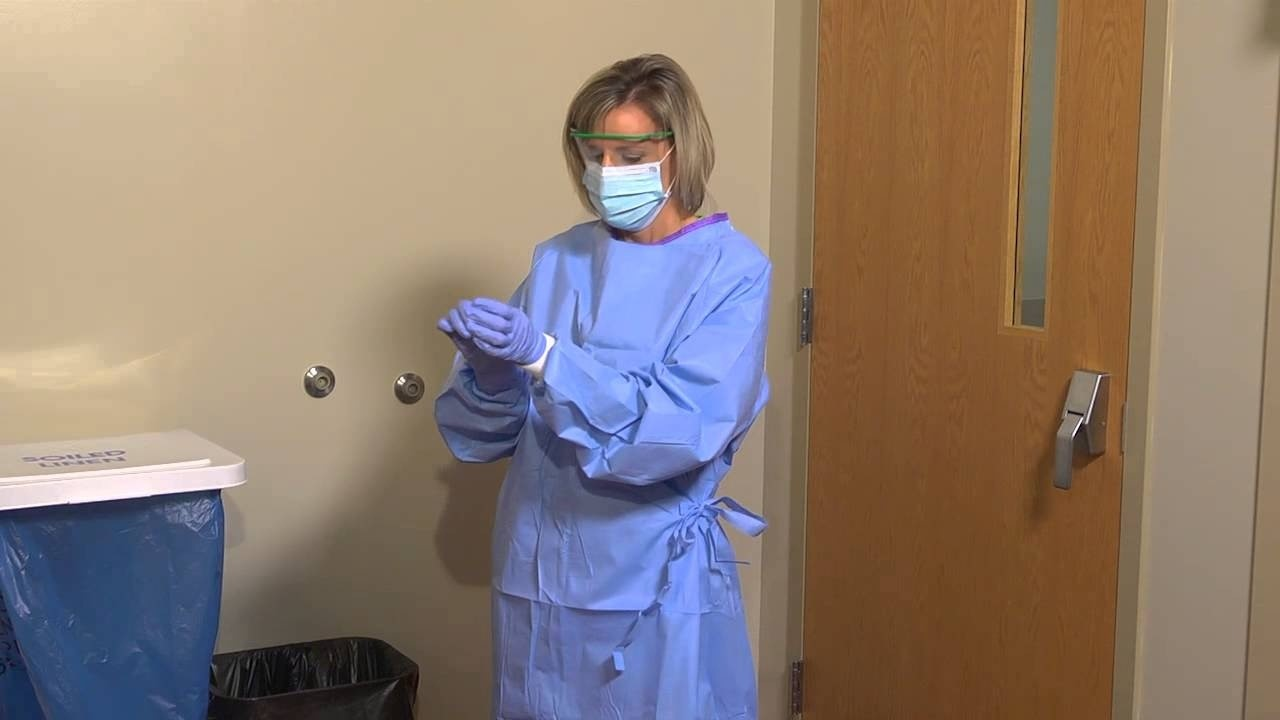face_with_mask: (558, 51, 717, 231), (548, 89, 695, 253)
